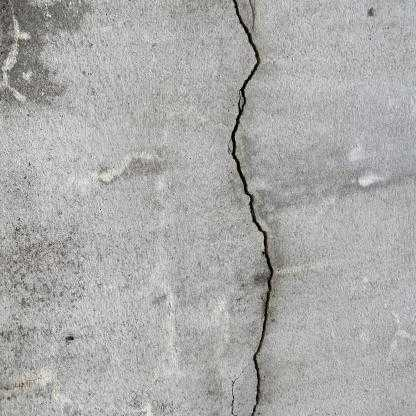crack: (230, 0, 274, 415)
